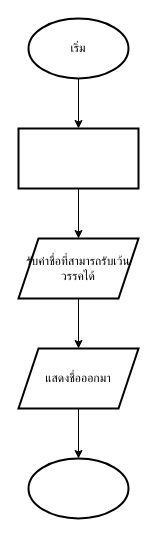
The diagram is 156 pixels wide and 536 high, and some of its shapes have lost their labels. The centre of each missing label's shape, as x and y in pixels:
กำหนดตัวแปรสตริง: point (78, 158)
จบ: point (78, 488)
